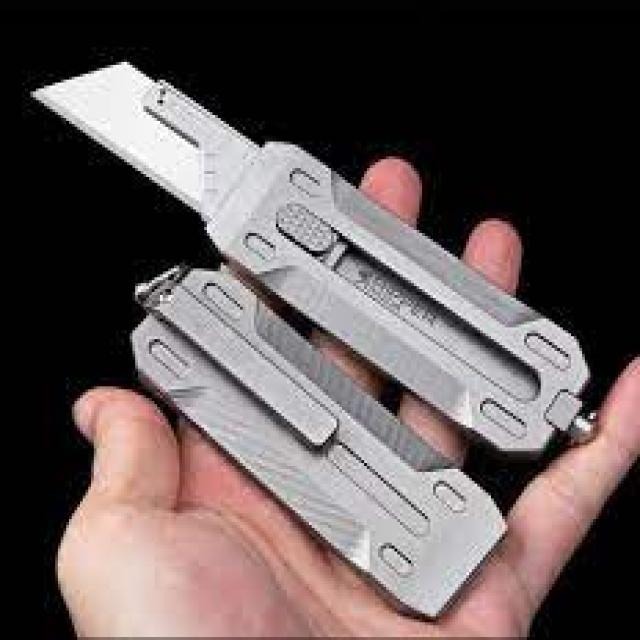cutter: (20, 55, 606, 466)
